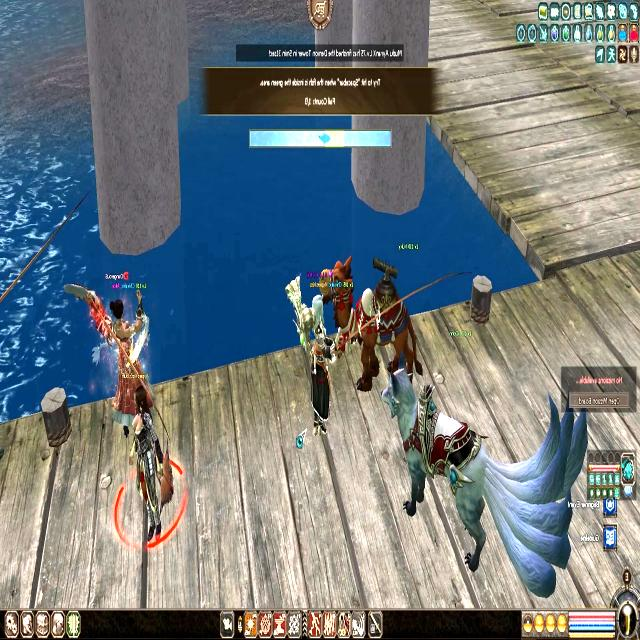fishes: (319, 130, 330, 146)
